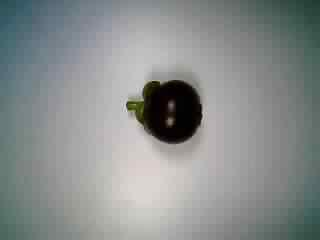mangosteen: (126, 68, 203, 151)
